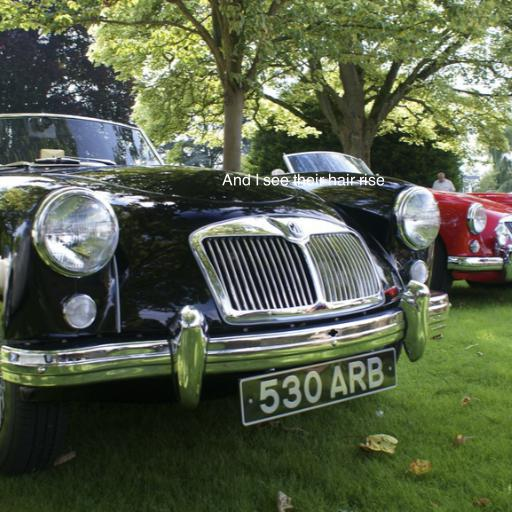SF Pro: (221, 173, 385, 186)
